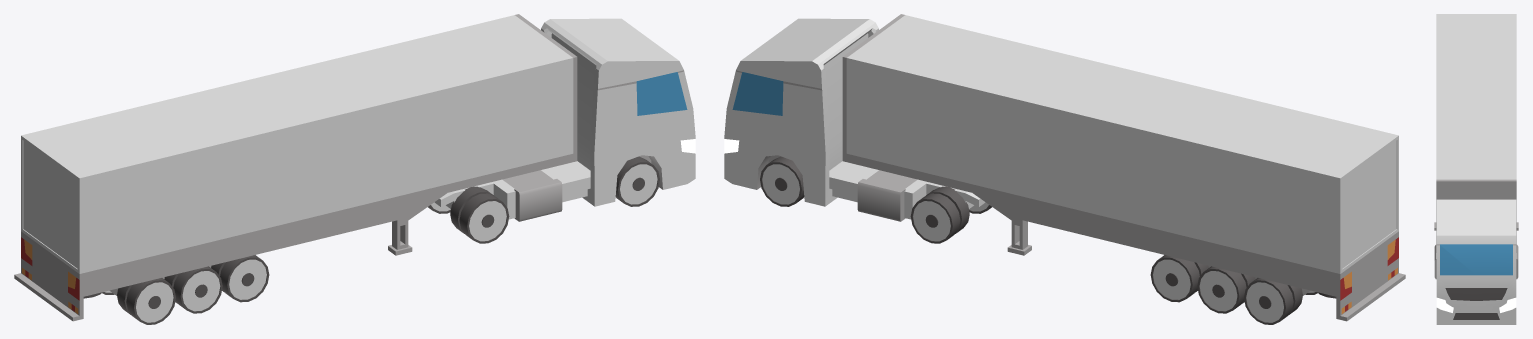
The model's file is truck_1.glb.
The picture shows the model from 3 angles, left to right: view 1: azimuth 30°, elevation 25°; view 2: azimuth 150°, elevation 25°; view 3: azimuth 270°, elevation 25°; orthographic projection. The views are drawn at different scales.
Visible parts, largest first — view 1: Object_9, Object_7, Object_8, Object_5; view 2: Object_9, Object_7, Object_8, Object_5; view 3: Object_9, Object_5, Object_7, Object_8, Object_2.
Boxes of the visible parts, box(x1,y1,x2,y2) form: Object_9: box(21, 15, 695, 322); Object_7: box(14, 14, 684, 321); Object_8: box(83, 156, 659, 324); Object_5: box(636, 72, 687, 115); Object_9: box(724, 15, 1398, 322); Object_7: box(735, 14, 1405, 321); Object_8: box(760, 156, 1336, 324); Object_5: box(732, 72, 783, 115); Object_9: box(1436, 14, 1516, 324); Object_5: box(1440, 244, 1512, 275); Object_7: box(1434, 179, 1518, 279); Object_8: box(1445, 288, 1507, 319); Object_2: box(1436, 297, 1516, 312).
Bounding box in the file's own units: 0.3273 × 0.0829 × 0.0557.
